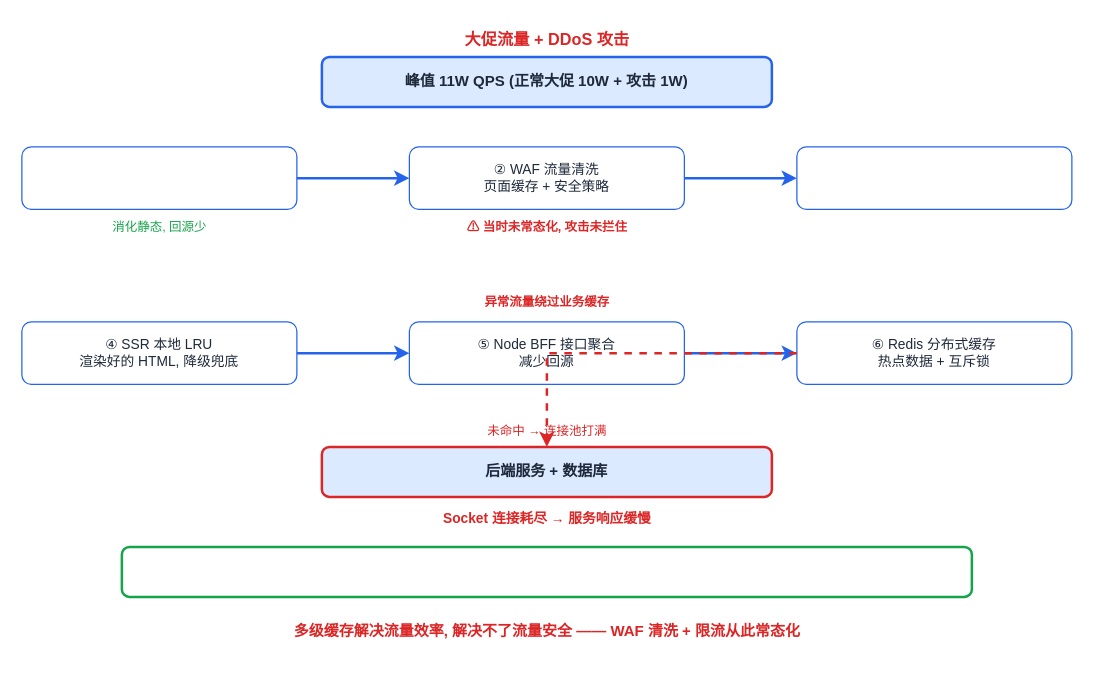
Some shapes in this 1094 by 685 pixel diagram are drawn without their labels. The centre of each missing label's shape, as x and y in pixels:
① CDN 边缘缓存 静态资源 + 兜底静态页: [159,177]
③ Nginx 反向代理 健康检查 + 故障摘除: [934,177]
恢复: WAF 识别 IP 频次/UA/请求模式 → 清洗拦截 + 限流 → Socket 逐步释放: [546,571]
